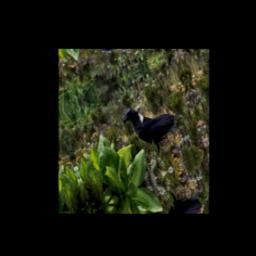Crow: (119, 87, 183, 168)
